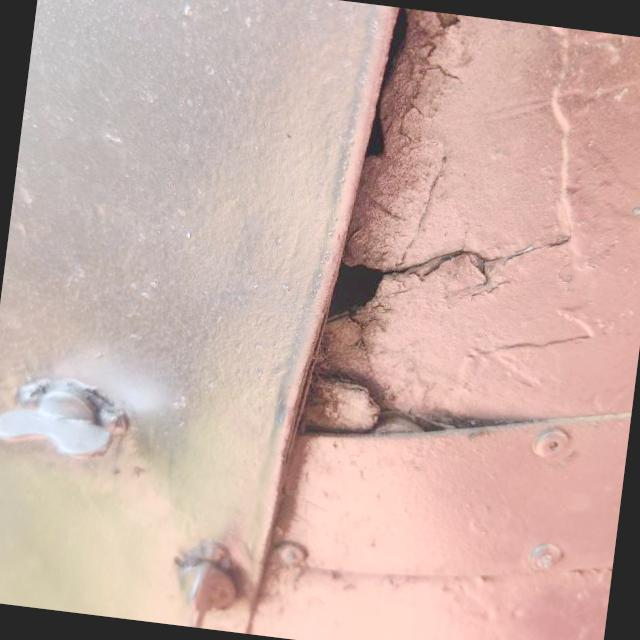crack: (272, 300, 429, 513)
